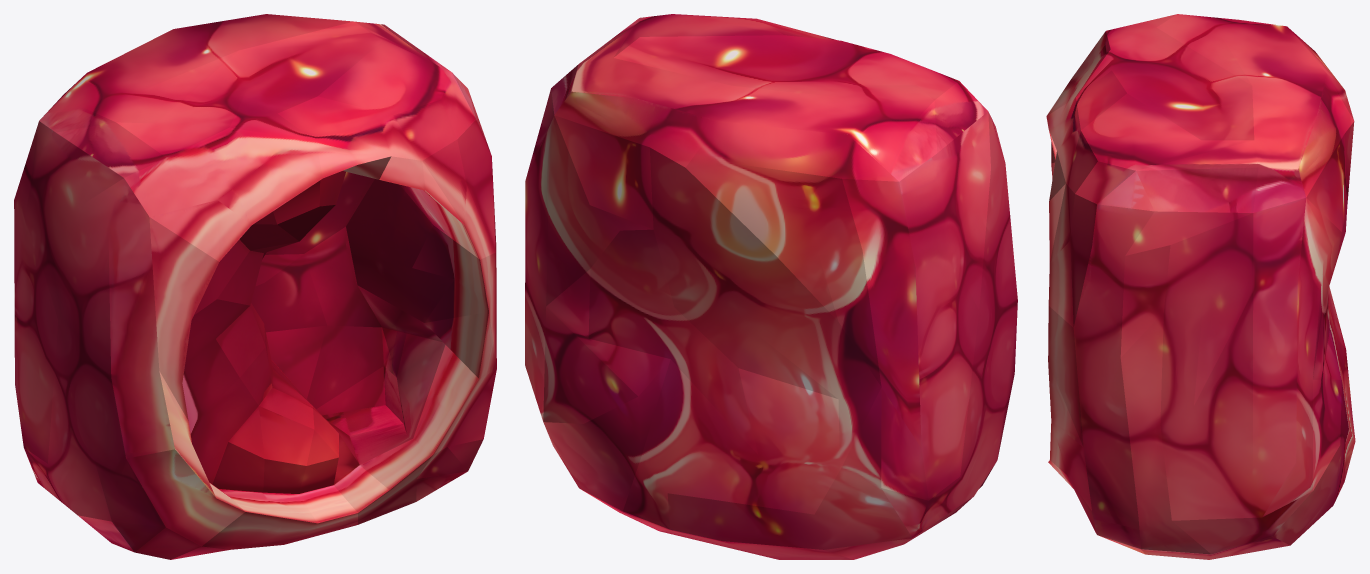
The model's file is Wall_1.fbx.
The picture shows the model from 3 angles, left to right: view 1: azimuth 30°, elevation 25°; view 2: azimuth 150°, elevation 25°; view 3: azimuth 270°, elevation 25°; orthographic projection. The views are drawn at different scales.
Parts seen in each view (by area): view 1: temp; view 2: temp; view 3: temp.
Part boxes in pixels (x1=…): temp: x1=14, y1=14, x2=496, y2=559; temp: x1=525, y1=14, x2=1017, y2=559; temp: x1=1046, y1=14, x2=1355, y2=559.
Size of the model in its own units: 190 by 193 by 131.
Materials: 1 (1 with a texture image).
